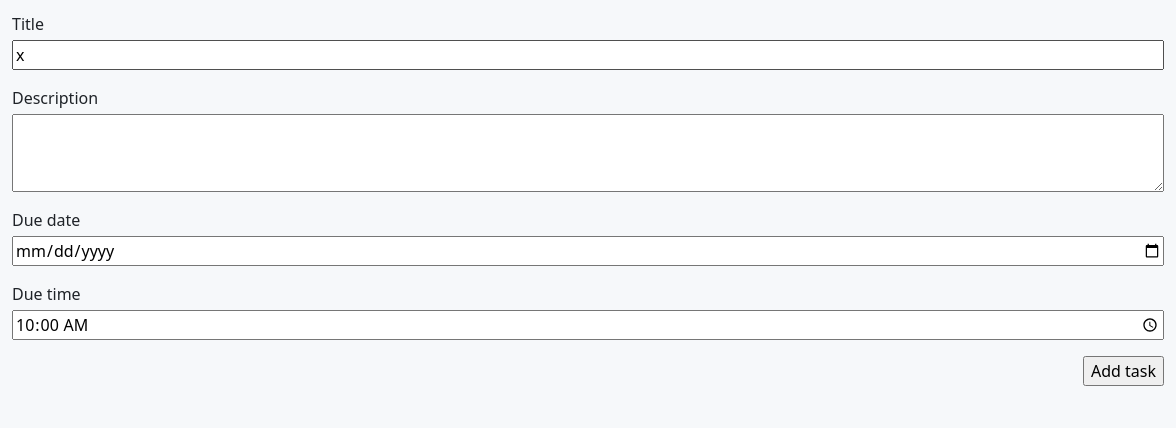
Test: TodoForm › shows "Enter a real date" under Due date for an impossible date and sends nothing
Click the button "Add task" at (1124, 371), box [1083, 356, 1164, 386]
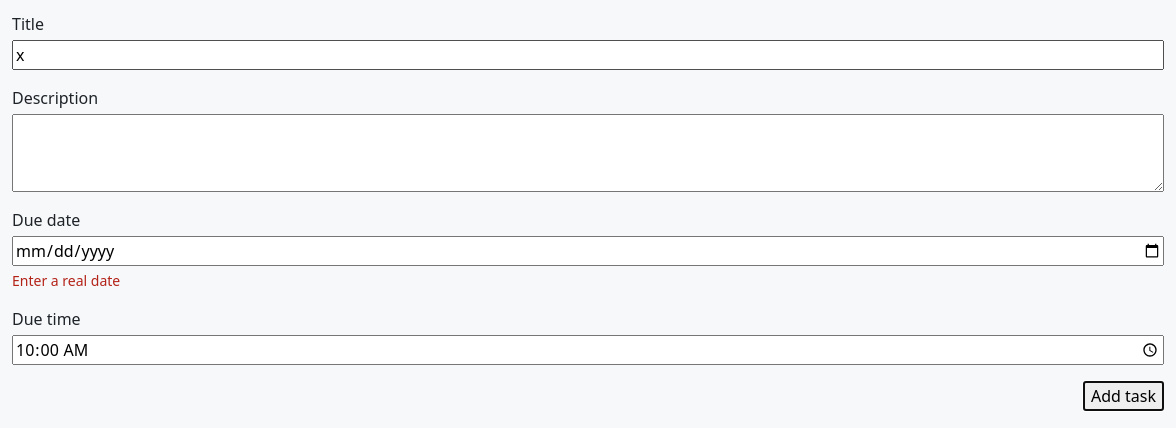
Result: the text "Enter a real date" is shown at [12, 271, 120, 290]
